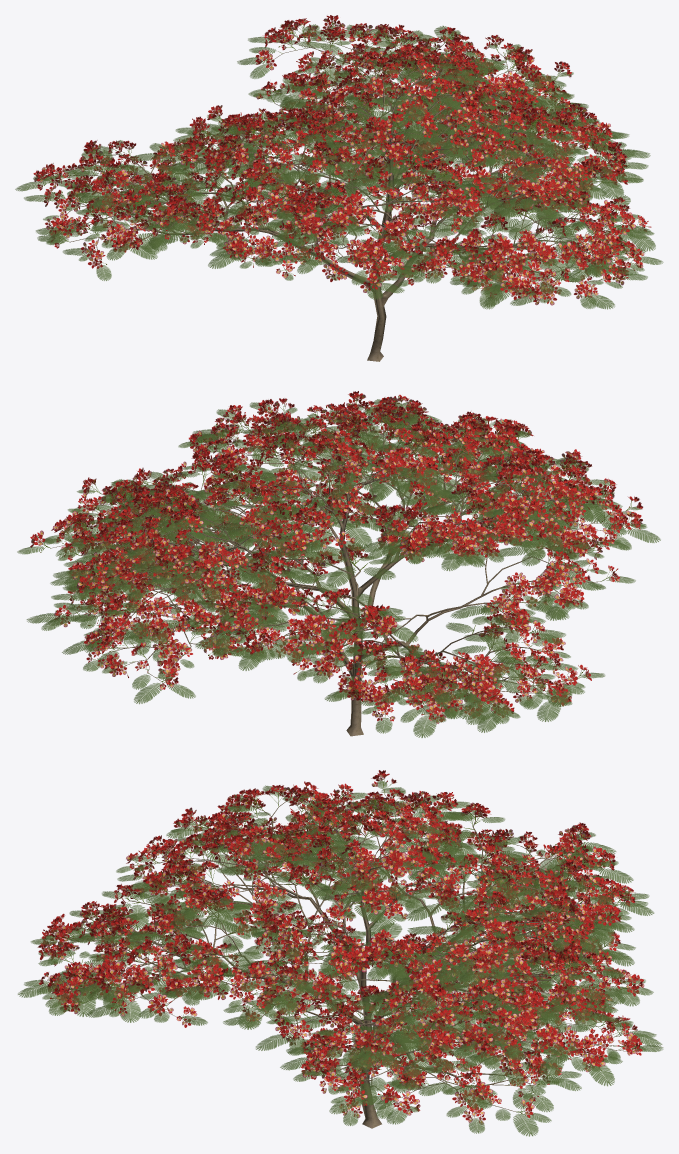
The model's file is poinciana_hd2.glb.
The picture shows the model from 3 angles, top to bottom: view 1: azimuth 30°, elevation 25°; view 2: azimuth 150°, elevation 25°; view 3: azimuth 270°, elevation 25°; orthographic projection. The views are drawn at different scales.
Visible parts, largest first — view 1: Delonix_regia_HD_w; view 2: Delonix_regia_HD_w; view 3: Delonix_regia_HD_w.
Part boxes in pixels (<box>): Delonix_regia_HD_w: <box>15,15,663,361</box>; Delonix_regia_HD_w: <box>17,391,660,737</box>; Delonix_regia_HD_w: <box>18,770,663,1136</box>.
Bounding box in the file's own units: 13.77 × 7 × 13.44.
9 materials, 9 textured.
